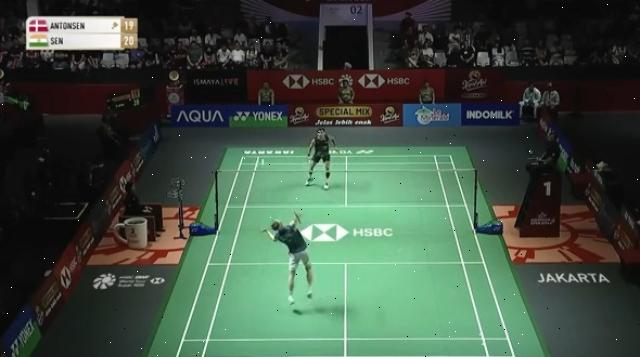Shuttlecock: (260, 160, 266, 166)
